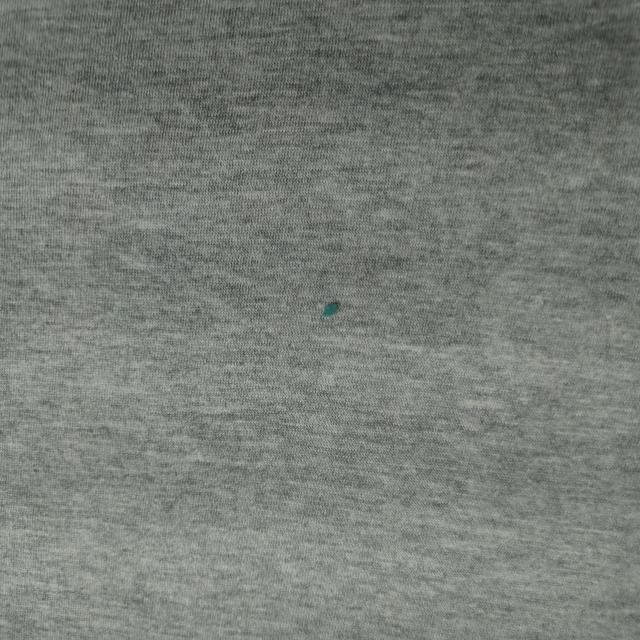other: (278, 263, 406, 377)
